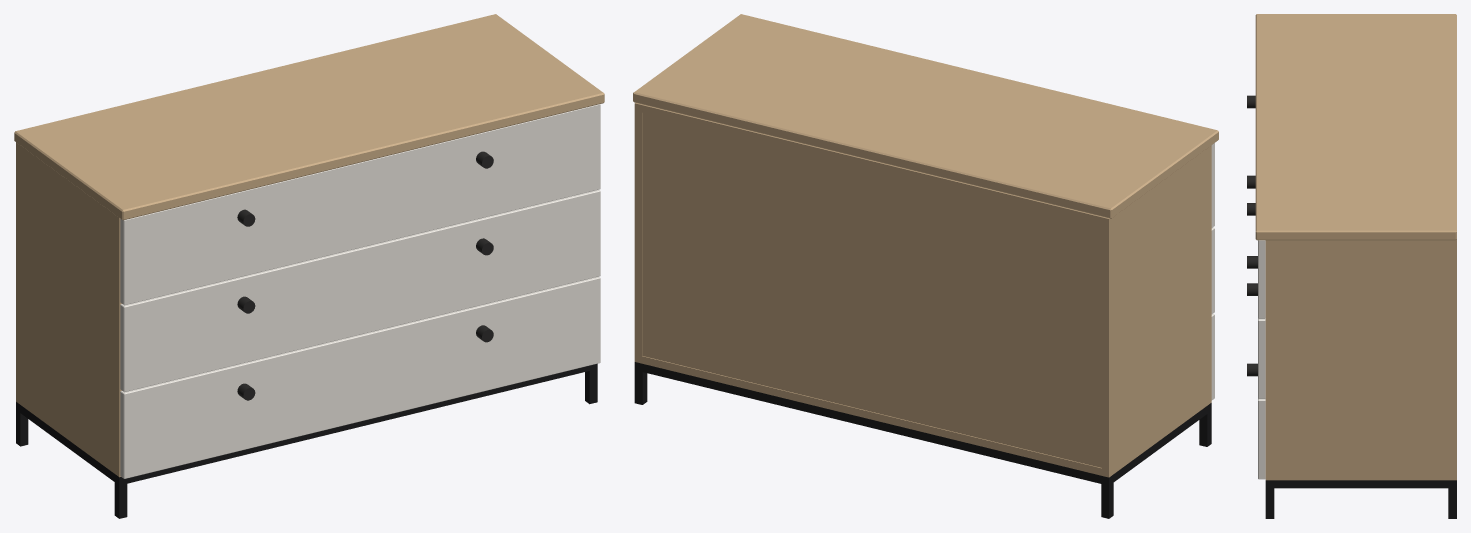
File: 47_komoda_120_3sz_rama.glb
3 views of the same model, side by side, from view 1: azimuth 30°, elevation 25°; view 2: azimuth 150°, elevation 25°; view 3: azimuth 270°, elevation 25° (orthographic). The views are drawn at different scales.
Parts seen in each view (by area): view 1: Wierzch, Front_szuflada_3, Front_szuflada_2, Front_szuflada_1, Korpus, Rama, Uchwyty; view 2: Korpus, Wierzch, Rama; view 3: Korpus, Wierzch, Rama, Uchwyty, Front_szuflada_3, Front_szuflada_2, Front_szuflada_1.
Part boxes in pixels (x1,y1,x2,y2): Wierzch: [14, 14, 604, 220]; Front_szuflada_3: [120, 276, 600, 478]; Front_szuflada_2: [120, 189, 600, 392]; Front_szuflada_1: [120, 104, 600, 305]; Korpus: [16, 142, 121, 477]; Rama: [16, 363, 597, 518]; Uchwyty: [237, 151, 493, 400]; Korpus: [634, 103, 1211, 477]; Wierzch: [633, 14, 1218, 218]; Rama: [634, 362, 1211, 518]; Korpus: [1265, 239, 1456, 480]; Wierzch: [1255, 14, 1456, 240]; Rama: [1265, 480, 1456, 518]; Uchwyty: [1247, 95, 1257, 376]; Front_szuflada_3: [1258, 399, 1265, 479]; Front_szuflada_2: [1258, 318, 1265, 398]; Front_szuflada_1: [1258, 240, 1265, 318].
Size of the model in its own units: 1.21 by 0.75 by 0.494.
